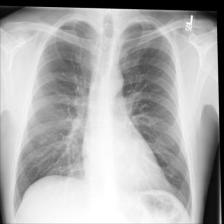normal: (13, 11, 195, 220)
